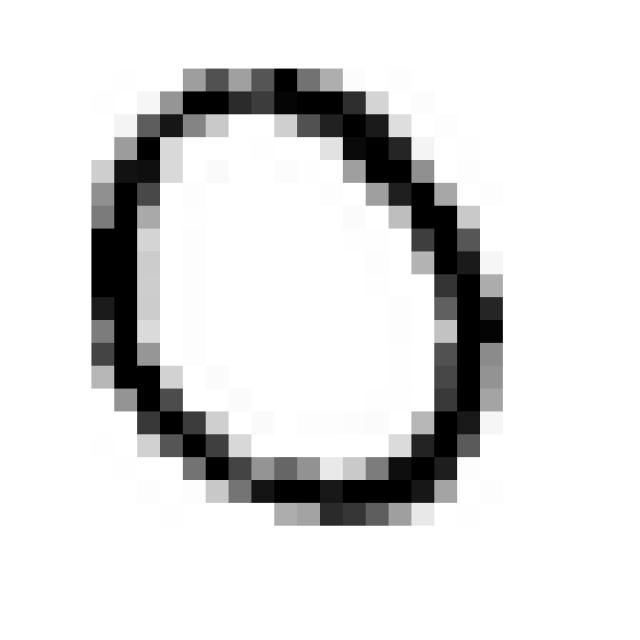5 -five-: (66, 46, 514, 536)
